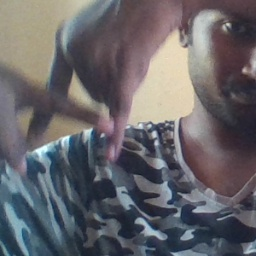H: (14, 41, 140, 166)
